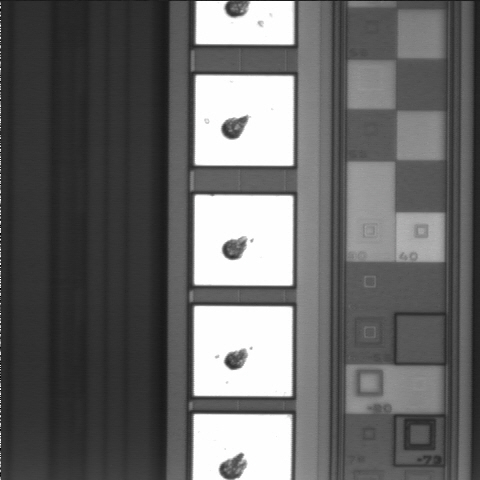pad: (195, 75, 294, 166), (194, 195, 293, 285), (194, 306, 292, 396)
